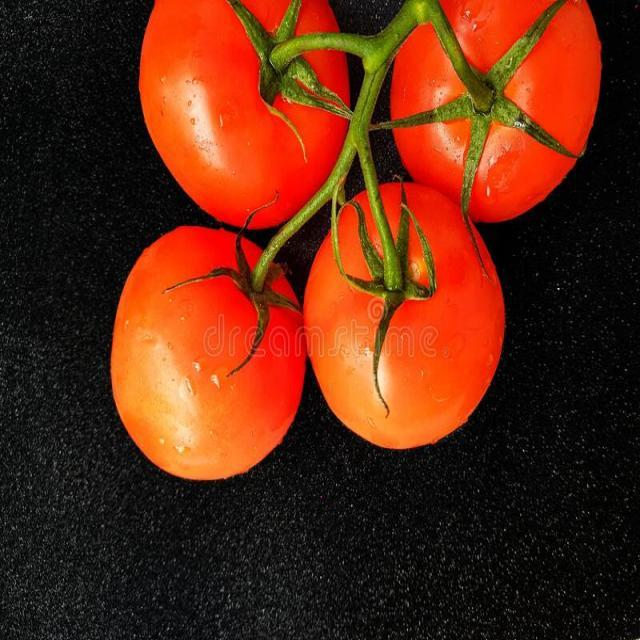sari: (110, 184, 476, 500)
